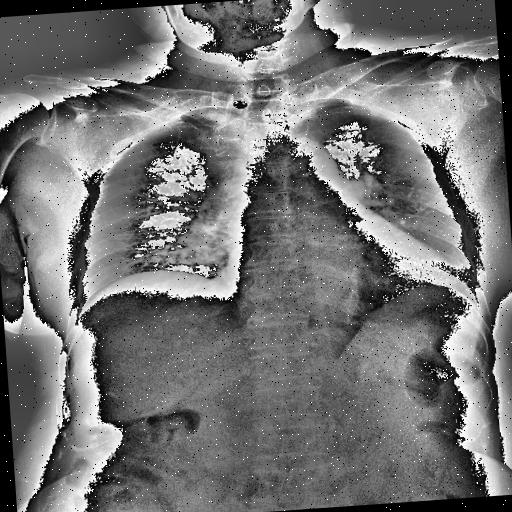0- Aortic enlargement: (268, 134, 343, 183)
3- Cardiomegaly: (231, 222, 458, 307), (214, 236, 457, 312), (220, 244, 452, 300)
7- Lung Opacity: (192, 108, 242, 180)
